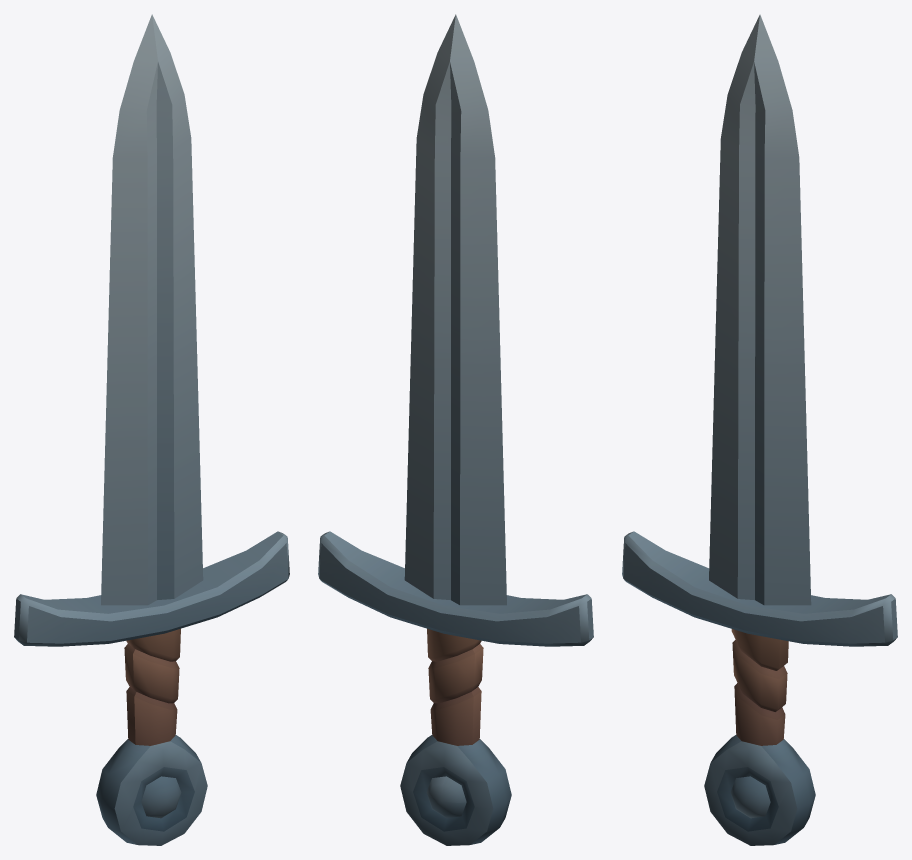
File: sword_B.fbx
The picture shows the model from 3 angles, left to right: view 1: azimuth 30°, elevation 25°; view 2: azimuth 150°, elevation 25°; view 3: azimuth 330°, elevation 25°; orthographic projection.
Parts seen in each view (by area): view 1: sword_B; view 2: sword_B; view 3: sword_B.
Part boxes in pixels (x1,y1,x2,y2): sword_B: (14, 14, 289, 845); sword_B: (318, 14, 593, 845); sword_B: (622, 14, 897, 845).
Size of the model in its own units: 61.09 by 179 by 12.02.
